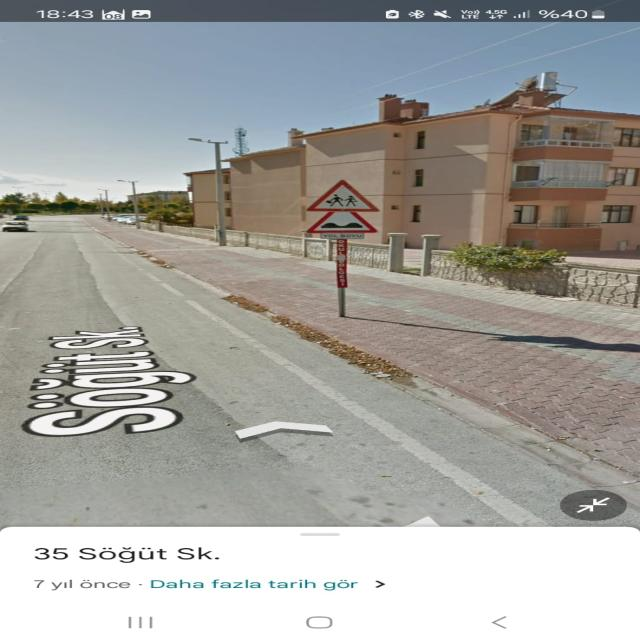okul_gecidi: (306, 179, 381, 211)
